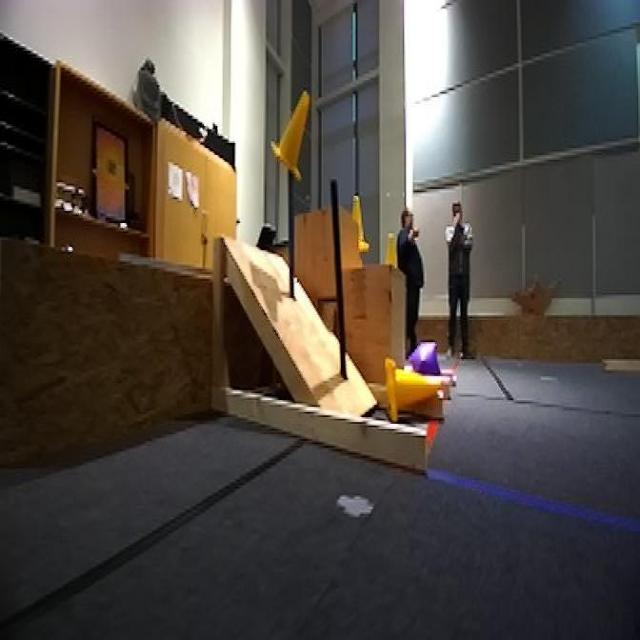frc_cone: (381, 356, 439, 427), (276, 92, 314, 182), (342, 189, 371, 257), (379, 226, 402, 271)
frc_cube: (411, 344, 442, 383)
